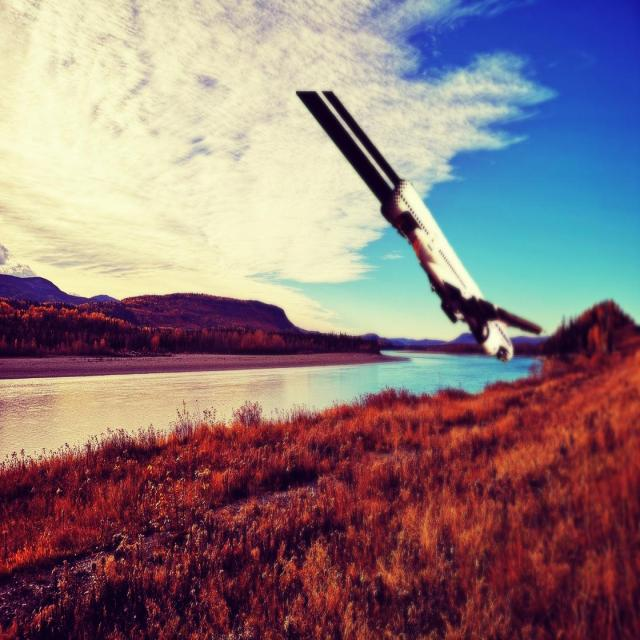airplane: (295, 88, 544, 362)
